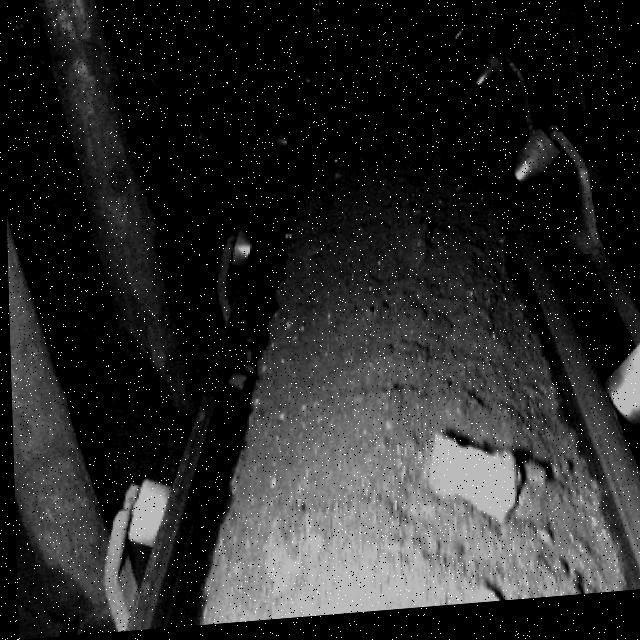large_sized_coal: (420, 435, 516, 534)
